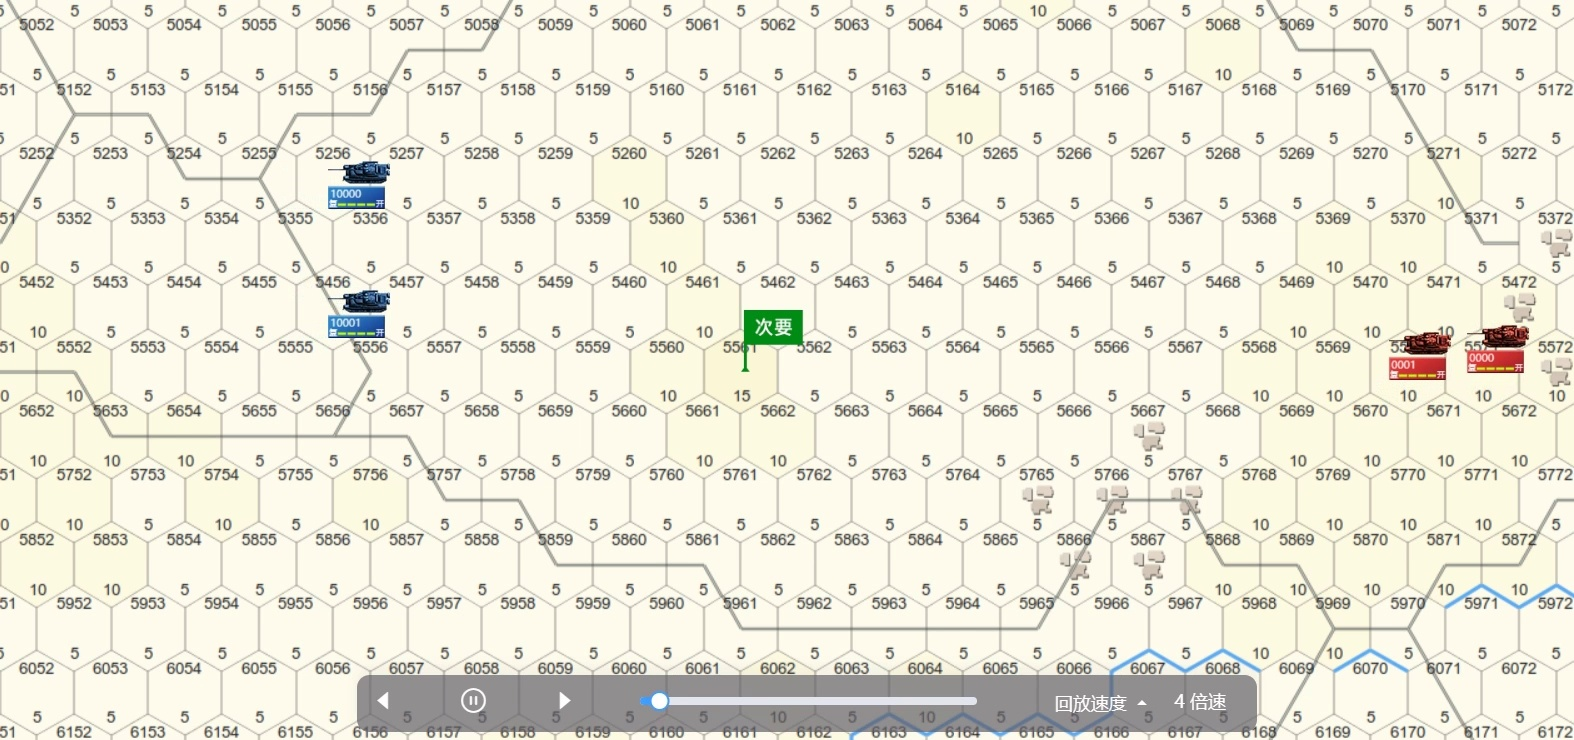blue_tank: (325, 162, 395, 212), (331, 287, 393, 334)
red_tank: (1463, 319, 1532, 373), (1392, 334, 1451, 381)
